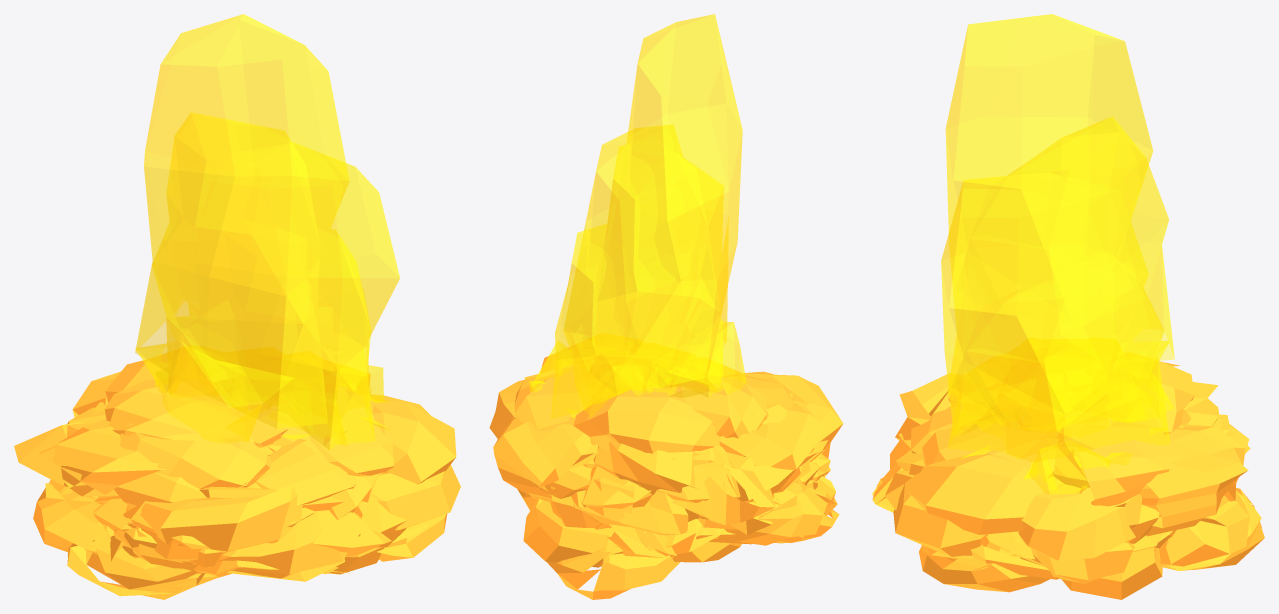
Rendered from XRYSTAL32.gltf.
3 views of the same model, side by side, from view 1: azimuth 30°, elevation 25°; view 2: azimuth 150°, elevation 25°; view 3: azimuth 270°, elevation 25° (orthographic). The views are drawn at different scales.
Visible parts, largest first — view 1: Cube.001, Circle, Circle.001; view 2: Cube.001, Circle, Circle.001; view 3: Circle, Cube.001, Circle.001.
Boxes of the visible parts, left/top/right/bottom form: Cube.001: left=14, top=353, right=460, bottom=599; Circle: left=135, top=14, right=349, bottom=446; Circle.001: left=195, top=143, right=399, bottom=449; Cube.001: left=489, top=347, right=843, bottom=599; Circle: left=570, top=14, right=746, bottom=417; Circle.001: left=529, top=124, right=700, bottom=419; Circle: left=945, top=14, right=1174, bottom=435; Cube.001: left=872, top=361, right=1264, bottom=599; Circle.001: left=941, top=172, right=1169, bottom=494.
Bounding box in the file's own units: 2.79 × 3.96 × 2.59.
